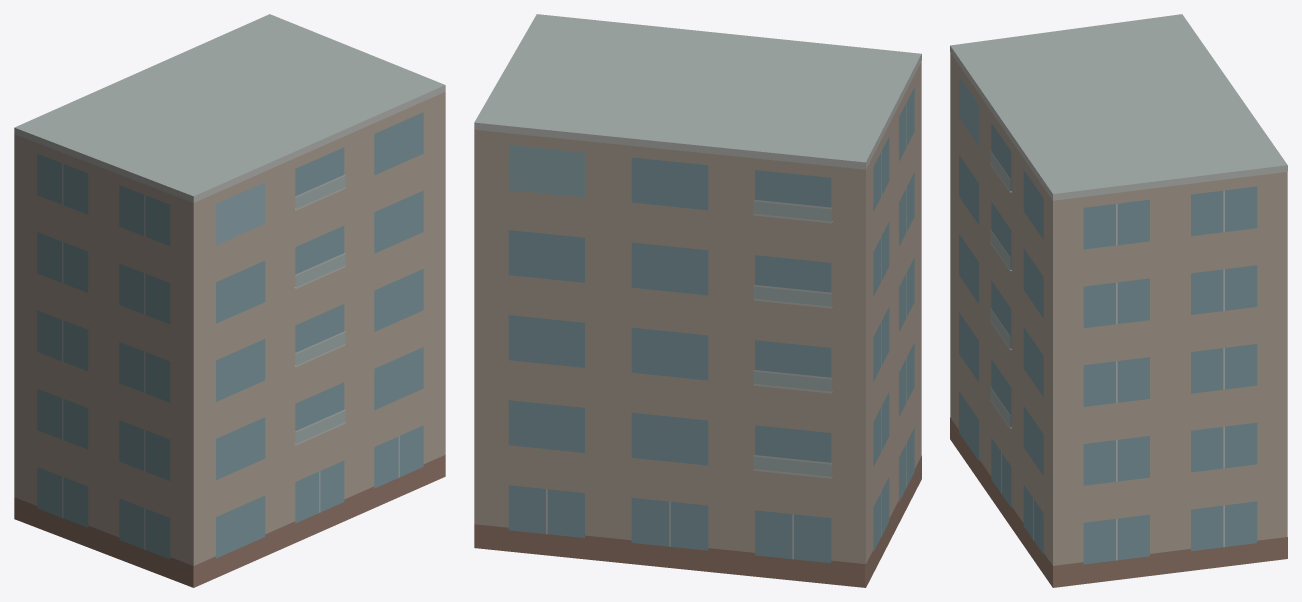
File: survey-upis-32963540.glb
3 views of the same model, side by side, from view 1: azimuth 30°, elevation 25°; view 2: azimuth 150°, elevation 25°; view 3: azimuth 270°, elevation 25° (orthographic). The views are drawn at different scales.
Parts seen in each view (by area): view 1: survey-upis-32963540.tmp; view 2: survey-upis-32963540.tmp; view 3: survey-upis-32963540.tmp.
Boxes of the visible parts, <box> form: survey-upis-32963540.tmp: <box>14,14,445,587</box>; survey-upis-32963540.tmp: <box>474,14,921,587</box>; survey-upis-32963540.tmp: <box>950,14,1287,587</box>.
Bounding box in the file's own units: 14.24 × 14.5 × 11.28.
